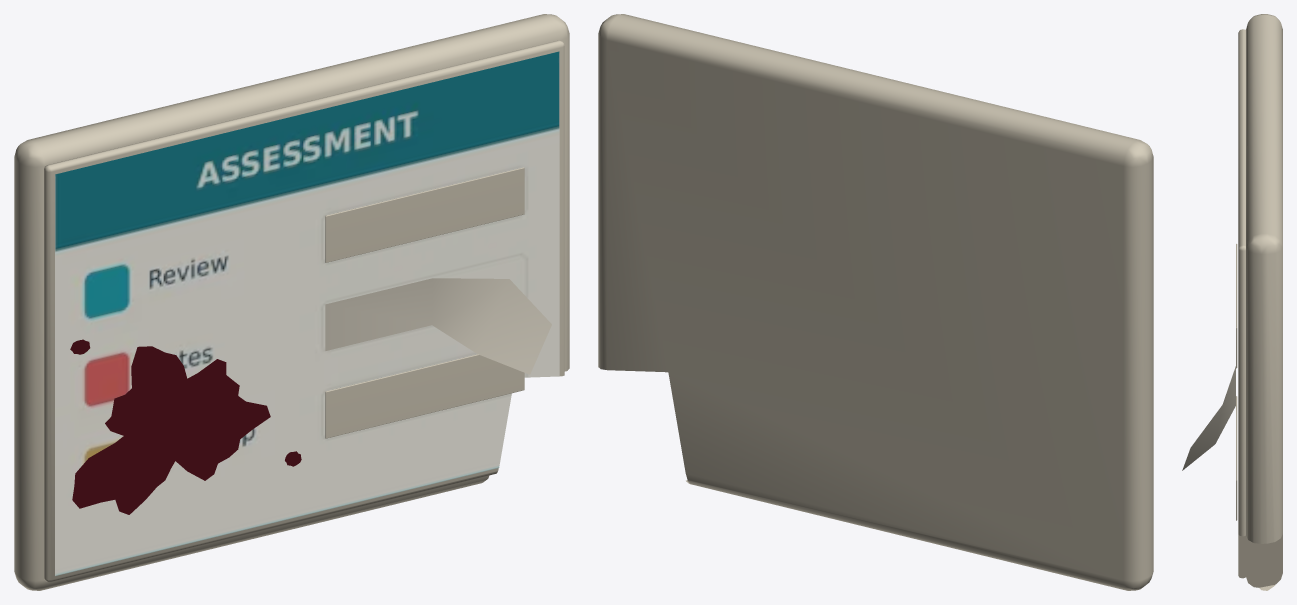
The model's file is assessment_status_board.glb.
The picture shows the model from 3 angles, left to right: view 1: azimuth 30°, elevation 25°; view 2: azimuth 150°, elevation 25°; view 3: azimuth 270°, elevation 25°; orthographic projection. The views are drawn at different scales.
Parts seen in each view (by area): view 1: OB_AssessmentStatusBoard_01_Static; view 2: OB_AssessmentStatusBoard_01_Static; view 3: OB_AssessmentStatusBoard_01_Static.
Part boxes in pixels (box(x1,y1,x2,y2)): OB_AssessmentStatusBoard_01_Static: box(14, 14, 569, 590); OB_AssessmentStatusBoard_01_Static: box(598, 14, 1153, 590); OB_AssessmentStatusBoard_01_Static: box(1182, 14, 1282, 590).
Size of the model in its own units: 0.77 by 0.6 by 0.142.
4 materials, 1 textured.
